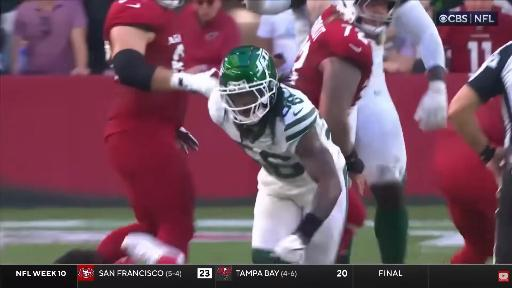Helmet: (218, 46, 278, 124), (353, 0, 399, 35), (336, 0, 357, 23), (156, 0, 184, 9)
Jersey: (208, 84, 345, 193), (290, 6, 372, 106), (104, 0, 184, 71)
Player: (98, 0, 217, 263), (208, 46, 347, 264), (290, 2, 372, 189), (351, 42, 408, 263), (434, 125, 497, 263), (114, 233, 185, 264)
